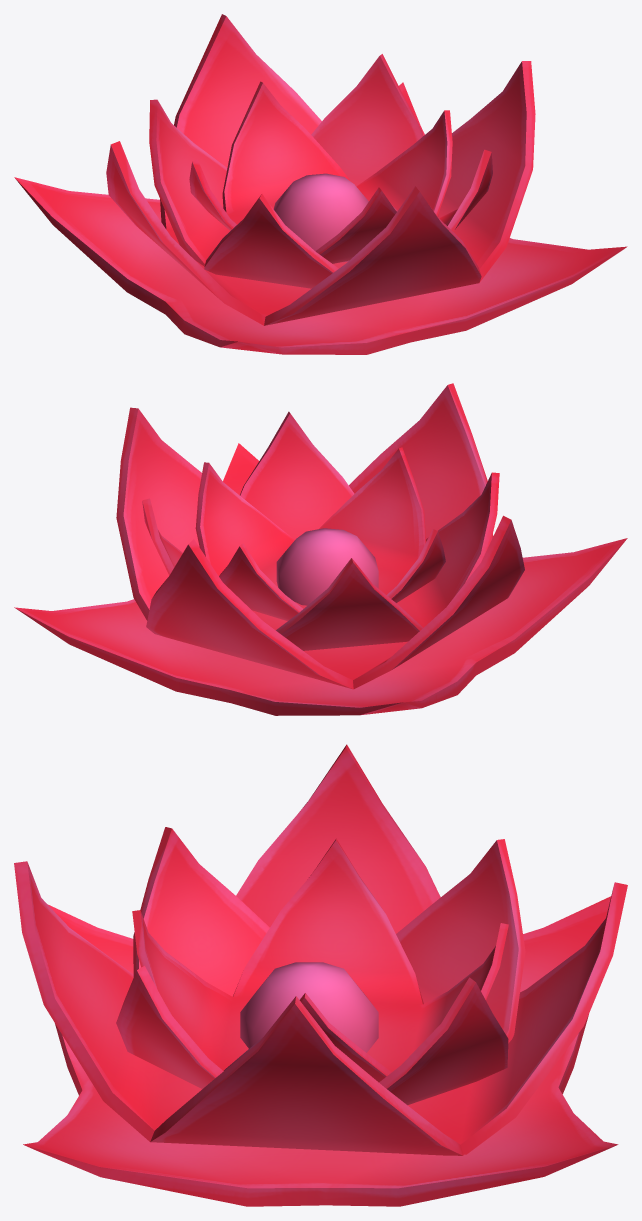
Rendered from SM_Item_Origami01.fbx.
3 renders of one model, top to bottom at view 1: azimuth 30°, elevation 25°; view 2: azimuth 150°, elevation 25°; view 3: azimuth 270°, elevation 25°, orthographic. The views are drawn at different scales.
Visible parts, largest first — view 1: SM_Item_Origami01; view 2: SM_Item_Origami01; view 3: SM_Item_Origami01.
Boxes of the visible parts, left/top/right/bottom form: SM_Item_Origami01: left=14, top=14, right=627, bottom=354; SM_Item_Origami01: left=14, top=383, right=627, bottom=715; SM_Item_Origami01: left=14, top=744, right=627, bottom=1206.
Size of the model in its own units: 28.48 by 13.91 by 28.48.
